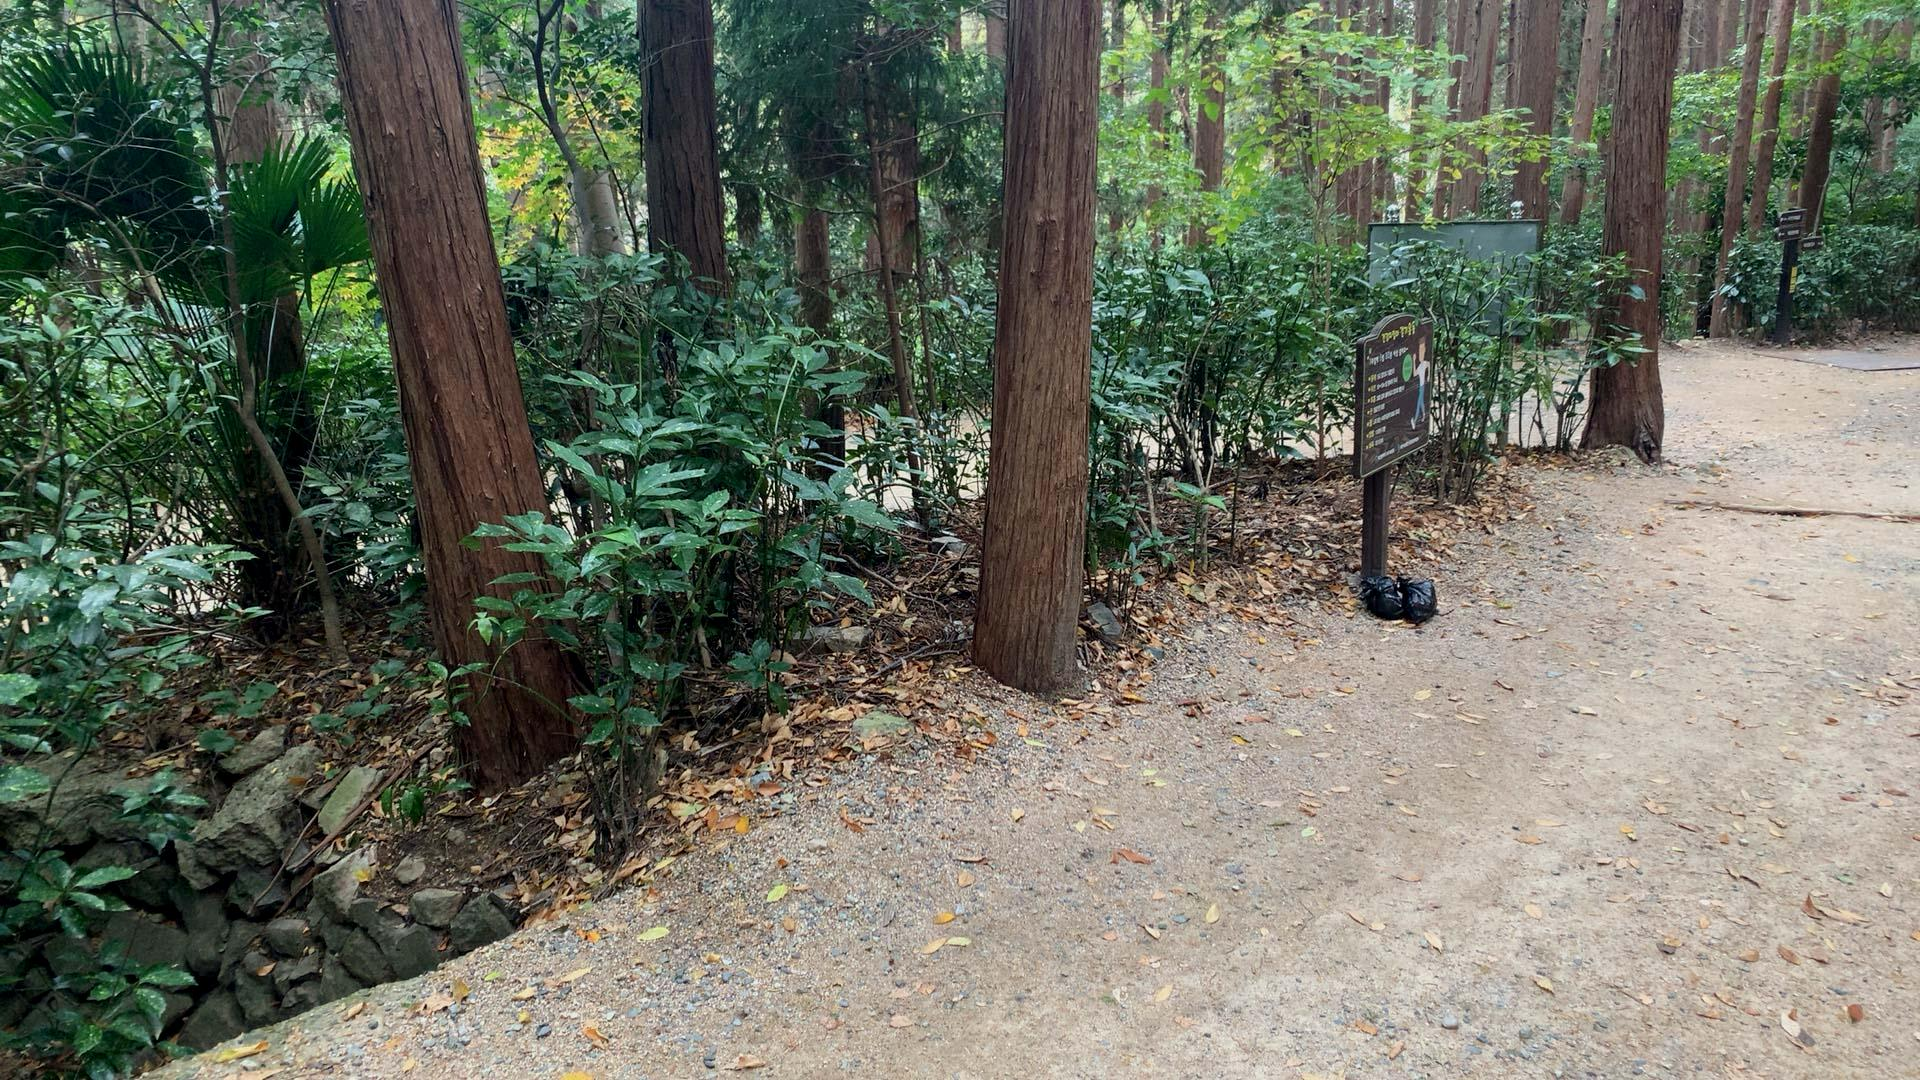black_bag: (1393, 568, 1439, 628), (1356, 570, 1403, 625)
